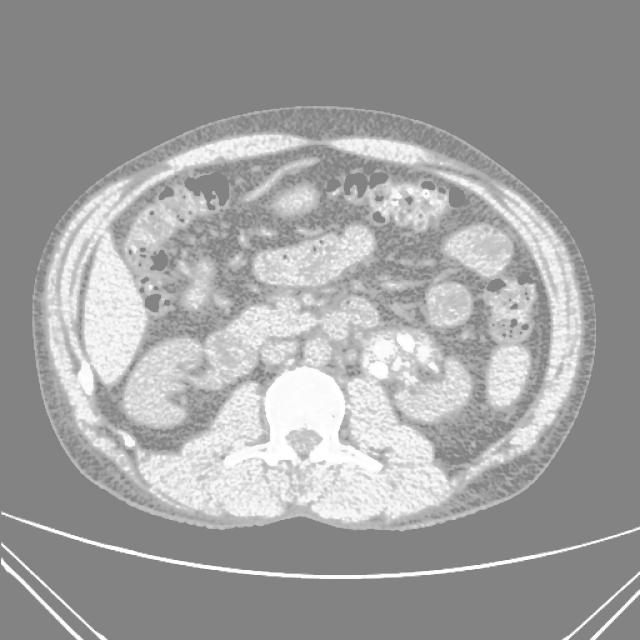STONE: (90, 97, 547, 374)
